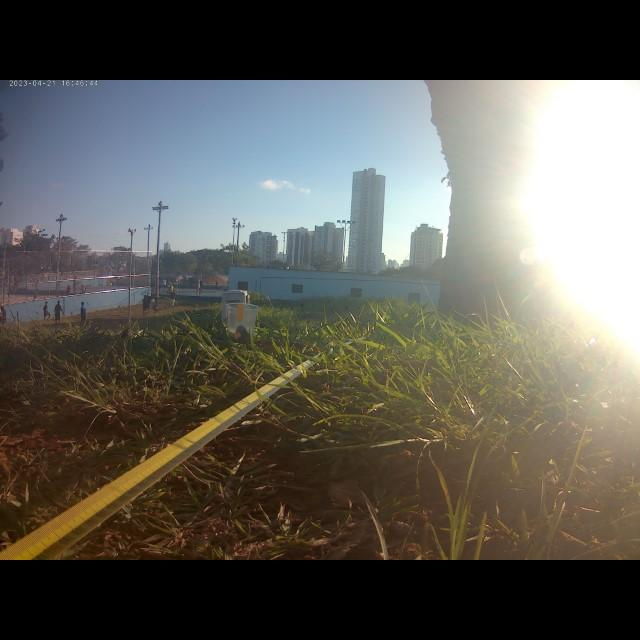arvore: (420, 80, 556, 326)
